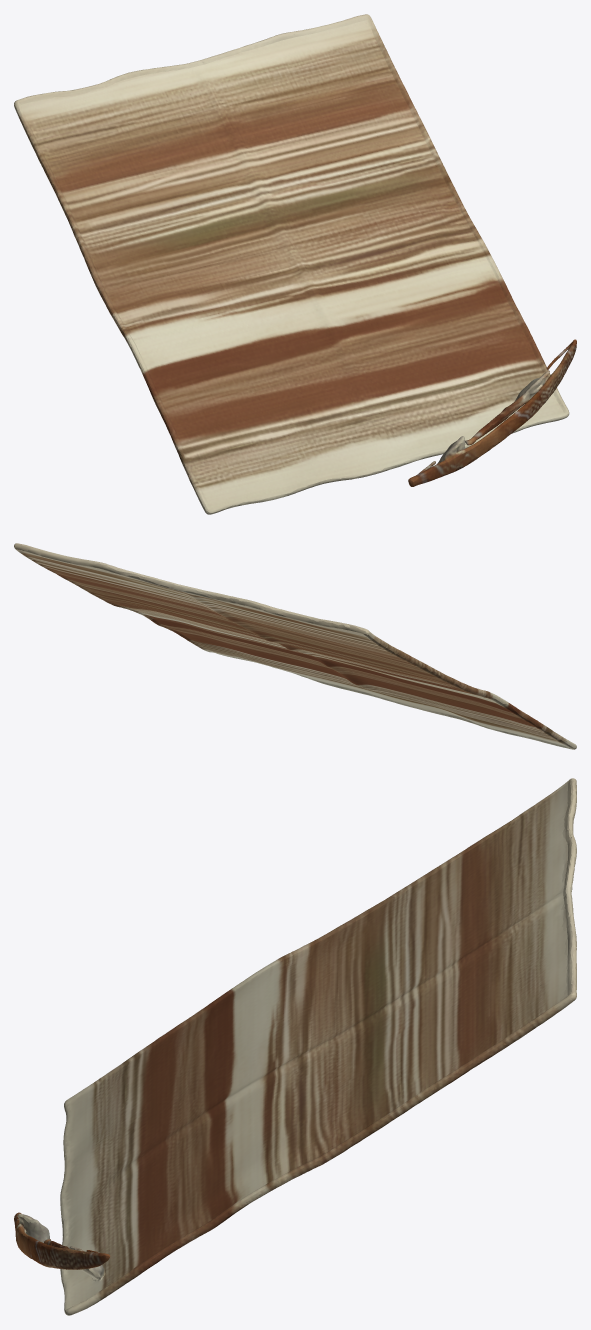
The model's file is item_985d025b.glb.
3 views of the same model, one above another, from view 1: azimuth 30°, elevation 25°; view 2: azimuth 150°, elevation 25°; view 3: azimuth 270°, elevation 25° (orthographic). The views are drawn at different scales.
Visible parts, largest first — view 1: world; view 2: world; view 3: world.
Part boxes in pixels (<box>): world: <box>14,14,576,514</box>; world: <box>14,543,576,749</box>; world: <box>14,778,576,1315</box>.
Size of the model in its own units: 2.4 by 1.6 by 2.4.
Materials: 1 (1 with a texture image).
